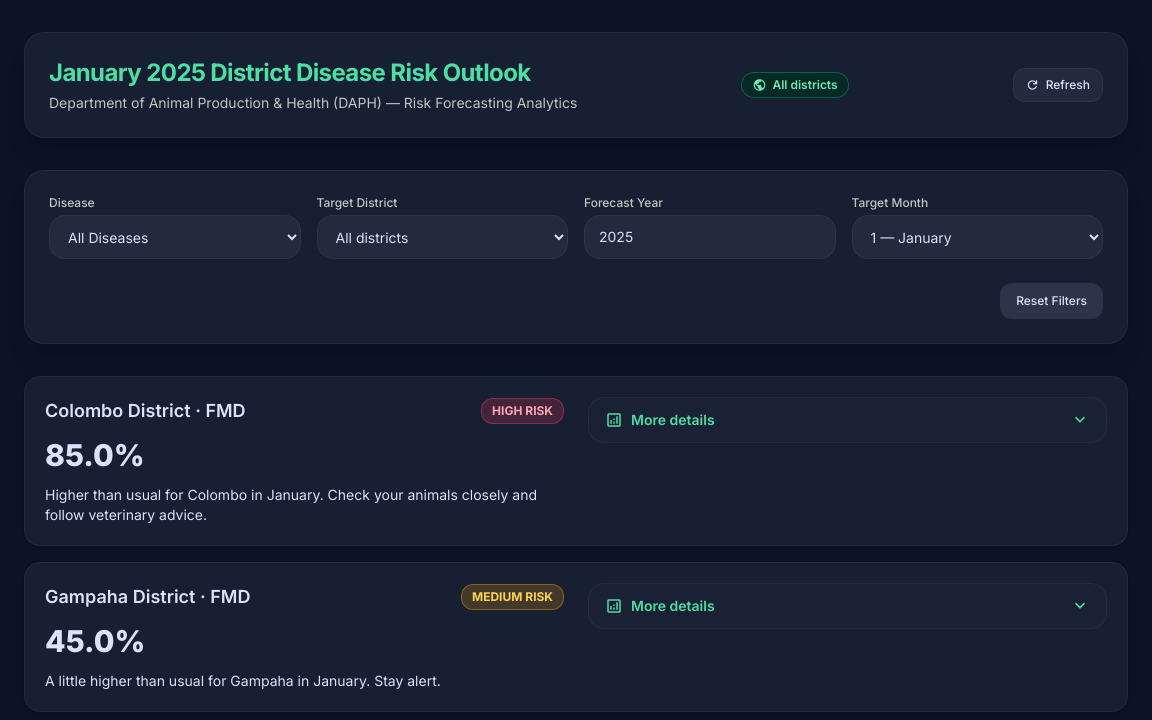
Test case: DaphDistrictForecasts Component › 11. Disease filter isolates LSD
expect the heading "Colombo District · FMD" is shown: met, box [45,397,246,425]
Select "LSD" in the dropdown labelled "Disease" at (175, 237), box [49,215,300,259]
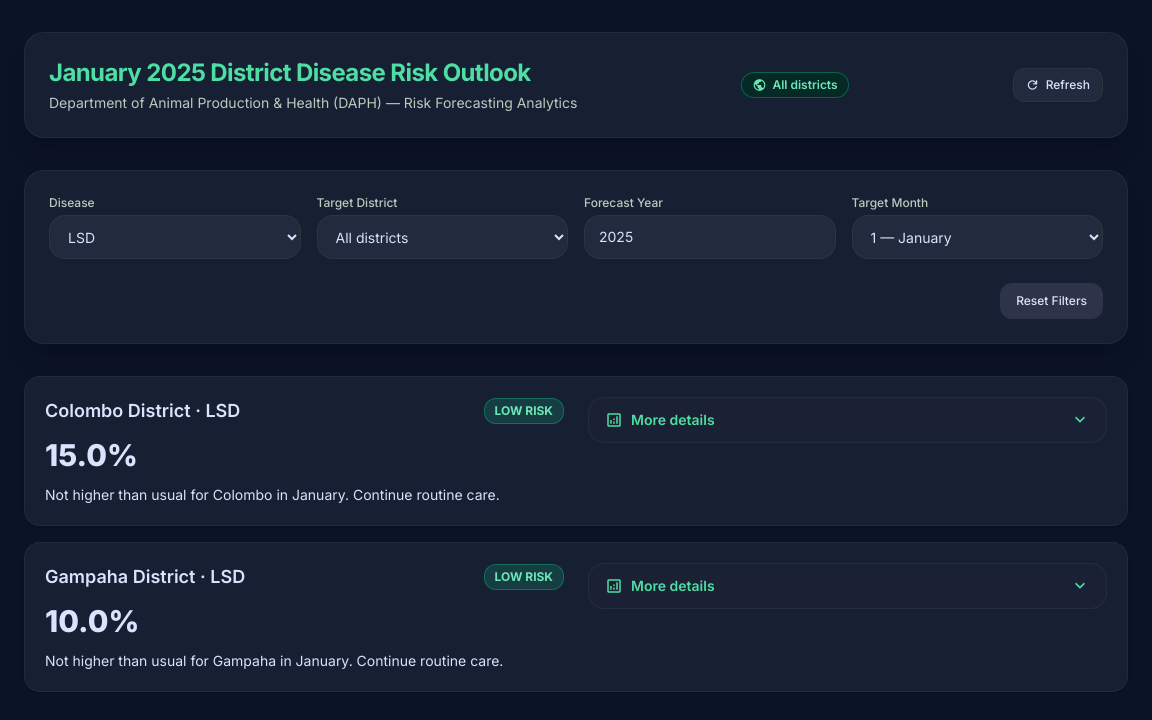
expect the heading "Colombo District · LSD" is shown: met, box [45,397,240,425]
expect the heading "Colombo District · FMD" is gone: met
